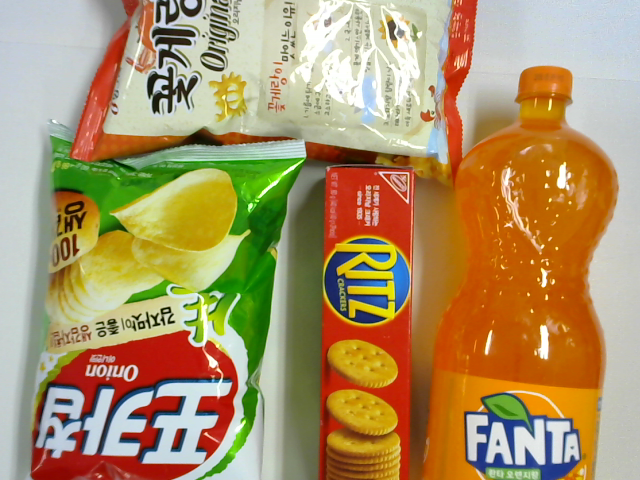Crabrang: (71, 1, 477, 191)
Hwanta_Orange_1.5L: (419, 64, 621, 480)
Pocachip_Onion: (21, 121, 308, 480)
Ritz_Cracker: (320, 162, 413, 480)
